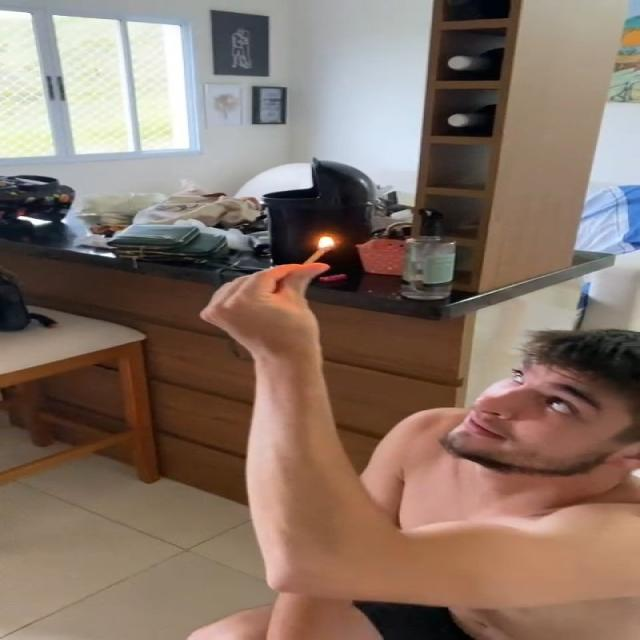fogo-ypXI: (316, 235, 336, 250)
